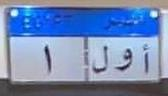1: (41, 43, 56, 74)
alif: (139, 42, 153, 77)
laam: (91, 43, 111, 78)
waw: (114, 45, 135, 73)
